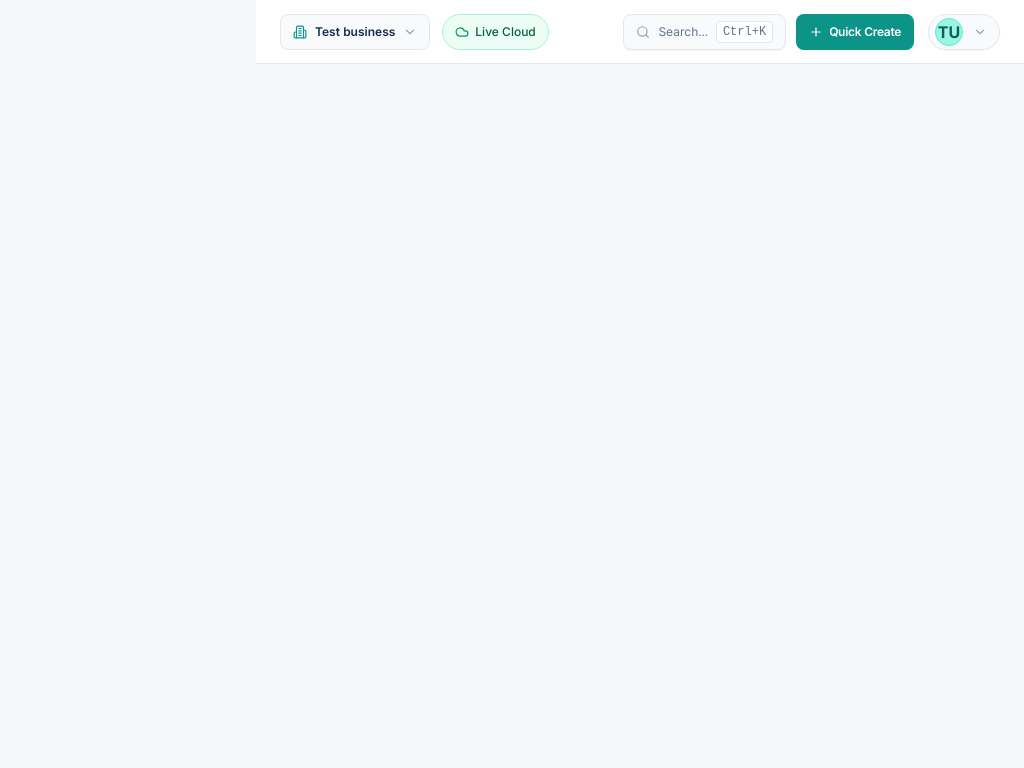
Test case: keeps the profile form open and reports an asynchronous save failure
Click the button with aria-label "User Profile & Shop Menu" at (964, 32), box [928,14,1000,50]
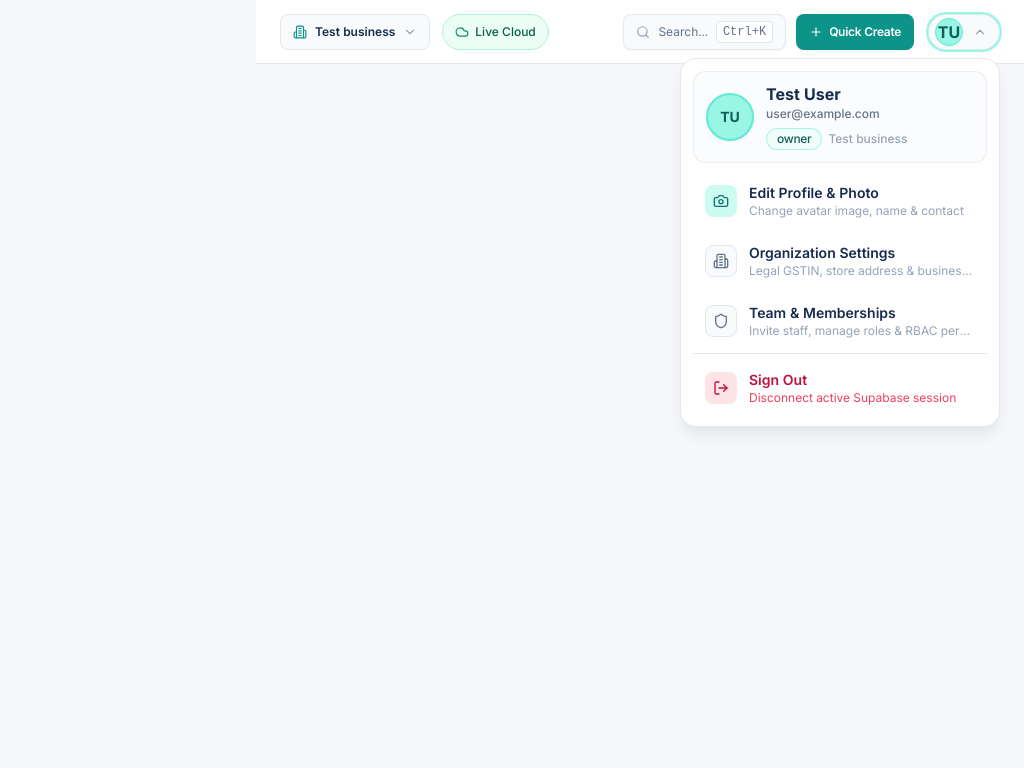
Click the text "Edit Profile & Photo" at (814, 192), box [749,184,879,200]
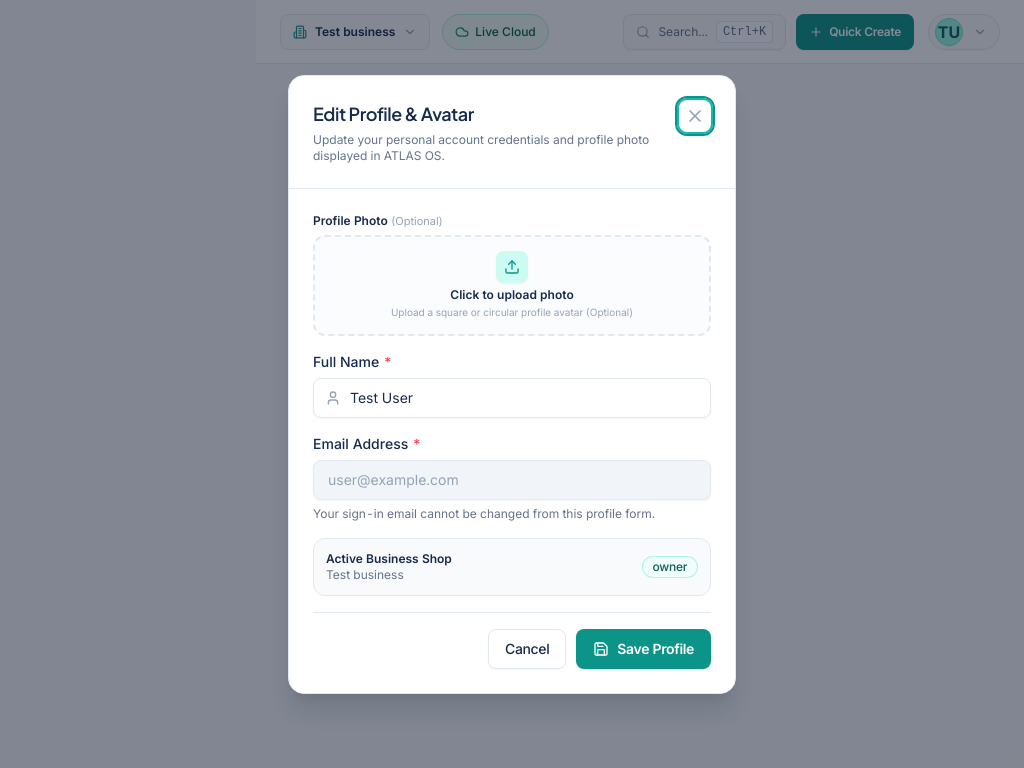
Check: the field labelled "Email Address" is disabled, box [313,460,711,500]
Click the button "Save Profile" at (644, 648), box [576,628,711,668]
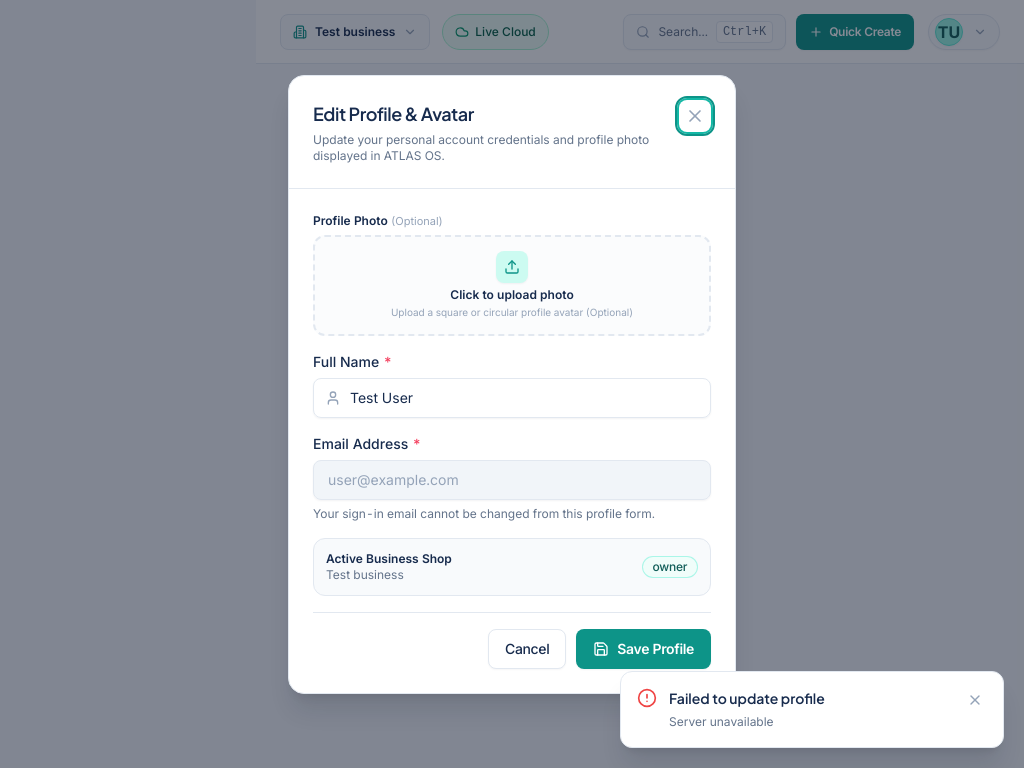
Check: the dialog "Edit Profile & Avatar" is shown, box [288,74,736,694]
Check: the heading "Failed to update profile" is shown, box [669,688,825,706]
Check: the text "Server unavailable" is shown, box [669,714,774,728]
